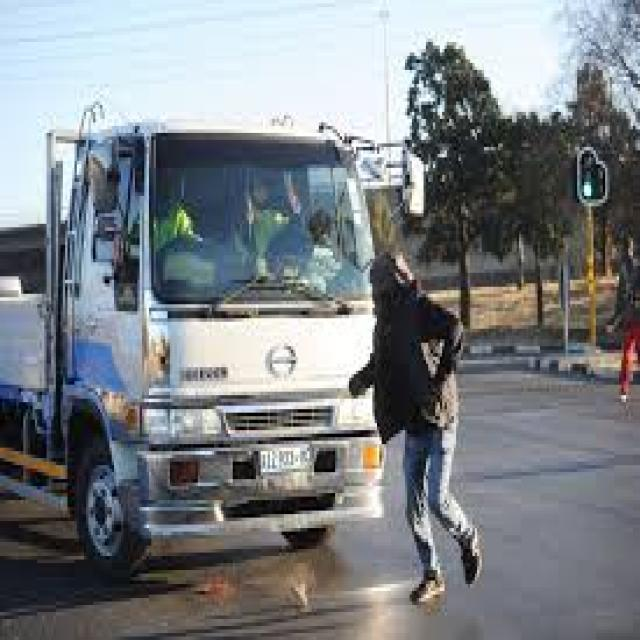Heavy Duty Truck: (2, 105, 386, 587)
Pedestrians: (349, 248, 486, 605), (609, 230, 640, 402)
